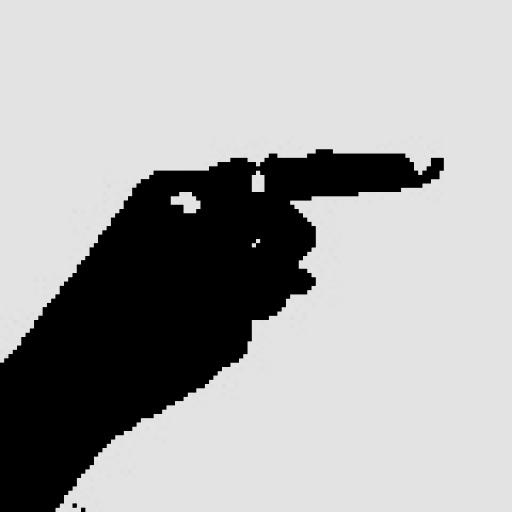index_right: (0, 146, 443, 364)
